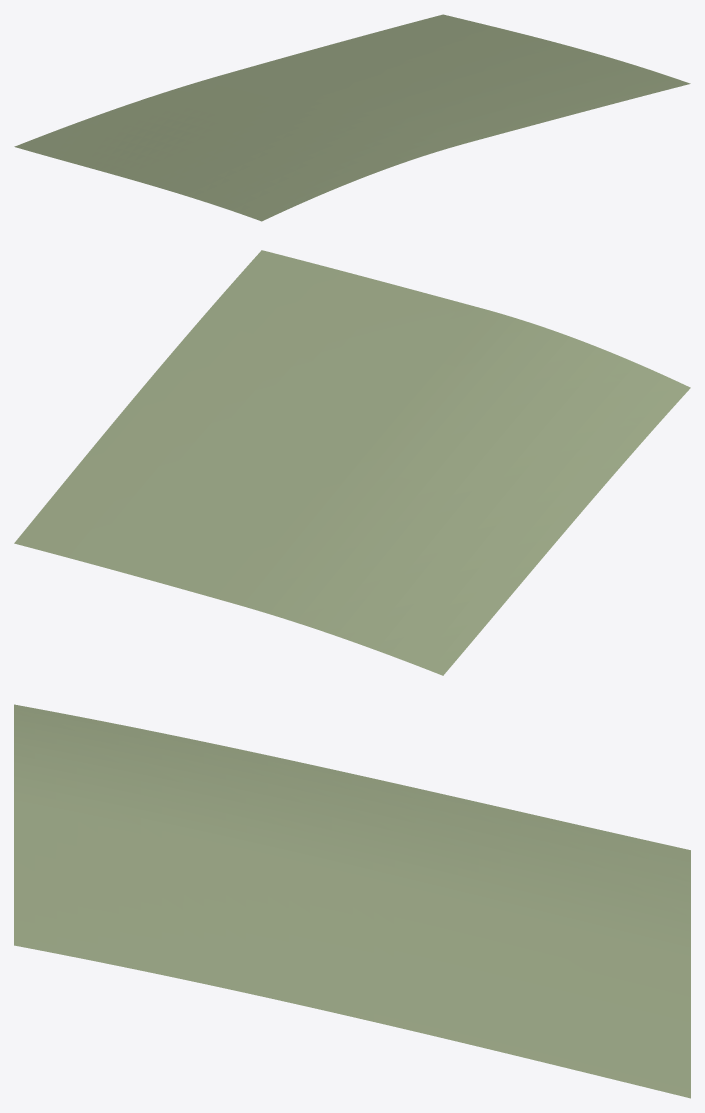
Rendered from expanse-26-5.glb.
3 views of the same model, one above another, from view 1: azimuth 30°, elevation 25°; view 2: azimuth 150°, elevation 25°; view 3: azimuth 270°, elevation 25° (orthographic). The views are drawn at different scales.
Parts seen in each view (by area): view 1: expanse-26-5; view 2: expanse-26-5; view 3: expanse-26-5.
Part boxes in pixels (bbox=[...]): expanse-26-5: bbox=[14, 14, 690, 221]; expanse-26-5: bbox=[14, 250, 690, 675]; expanse-26-5: bbox=[14, 704, 690, 1098].
Bounding box in the file's own units: 256 × 79.63 × 256.
